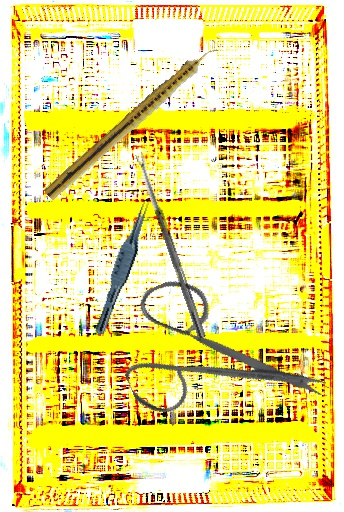Handpiece: (43, 40, 222, 205)
Iris Scissors: (97, 240, 331, 463)
Surgical Spoon: (135, 152, 207, 339)
Tissue Forceps: (93, 196, 154, 339)
